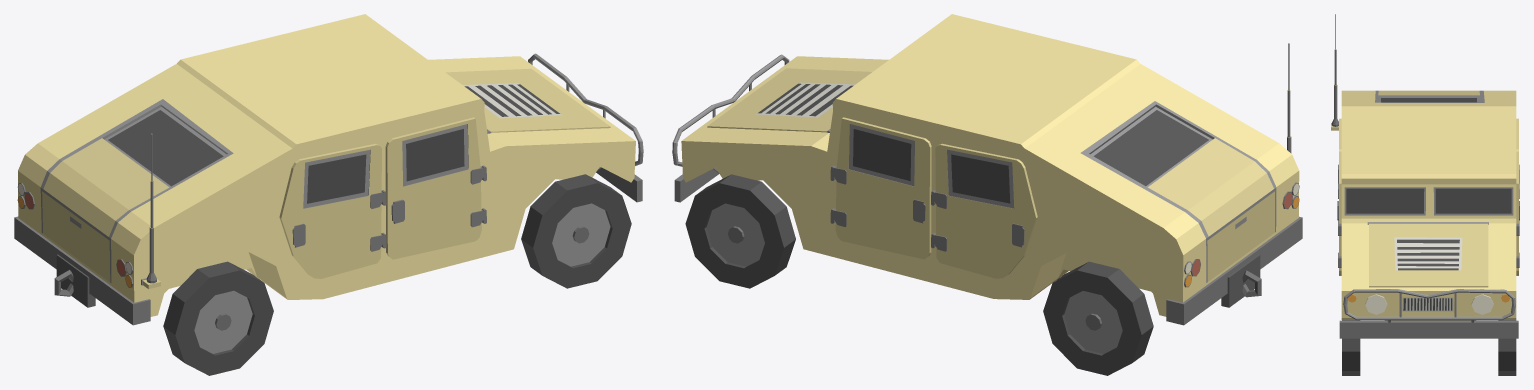
The model's file is kar.fbx.
3 renders of one model, left to right at view 1: azimuth 30°, elevation 25°; view 2: azimuth 150°, elevation 25°; view 3: azimuth 270°, elevation 25°, orthographic. The views are drawn at different scales.
Visible parts, largest first — view 1: Boole_9, Cylinder_1, Cylinder; view 2: Boole_9, Cylinder_2, Cylinder_3; view 3: Boole_9, Cylinder_2, Cylinder_1.
Part boxes in pixels (bbox=[...]): Boole_9: bbox=[14, 14, 643, 325]; Cylinder_1: bbox=[521, 174, 631, 288]; Cylinder: bbox=[163, 261, 273, 375]; Boole_9: bbox=[672, 14, 1302, 325]; Cylinder_2: bbox=[685, 174, 795, 288]; Cylinder_3: bbox=[1043, 261, 1153, 375]; Boole_9: bbox=[1331, 14, 1519, 338]; Cylinder_2: bbox=[1498, 320, 1516, 375]; Cylinder_1: bbox=[1342, 320, 1360, 375].
Bounding box in the file's own units: 584 × 272 × 237.
